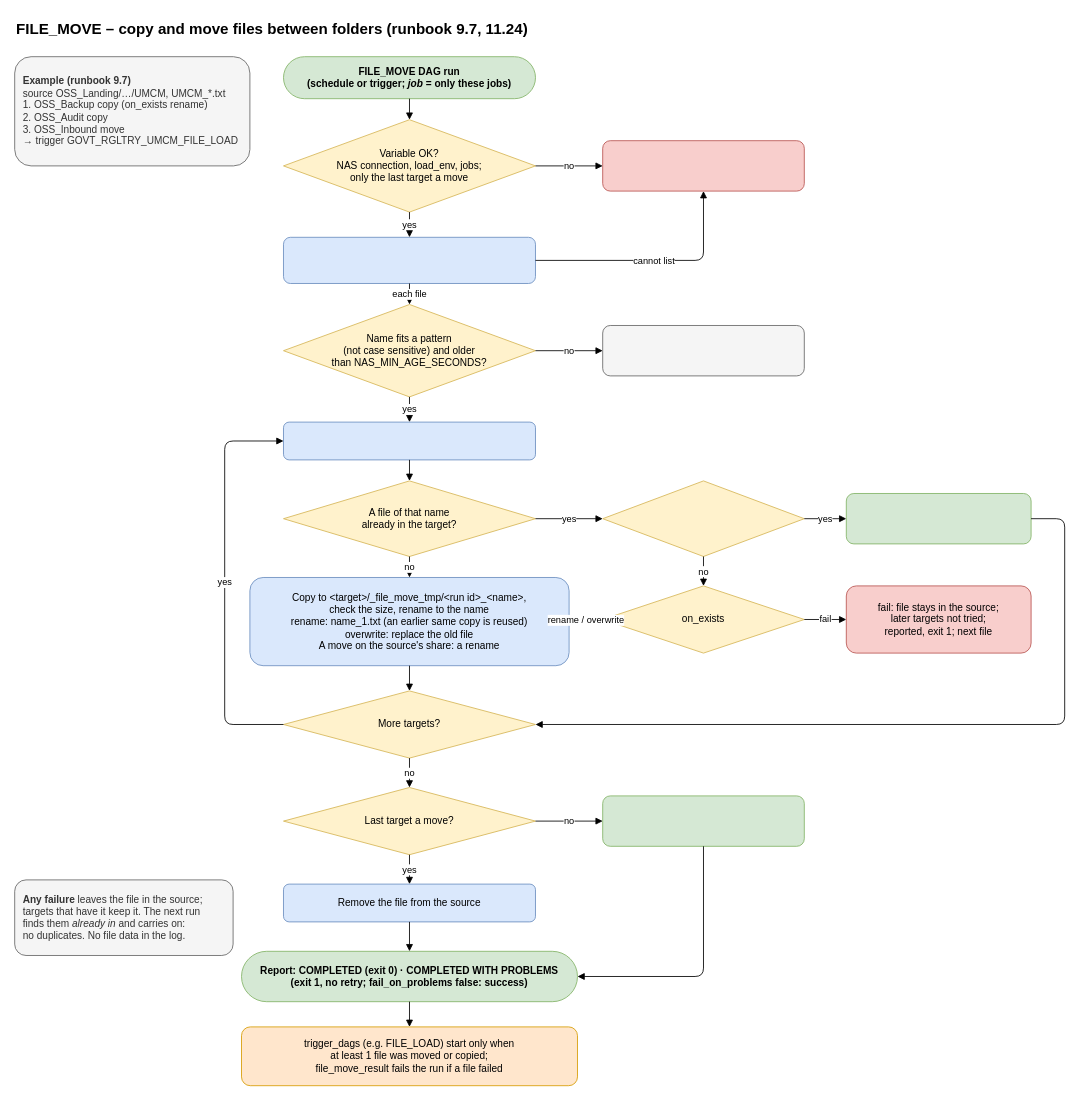
Image size: 1086x1100. Some labels were removed from this diagram. The shapes that lost their labels are listed below. From the top down, each one's centre as x and y in pixels, then its label:
At point 703,165: "COULD NOT RUN (exit 2) task retried, then fails".
At point 409,260: "Per job: list the source folder (files directly in it, not subfolders)".
At point 703,350: "Not taken: stays in the source (still arriving: next run)".
At point 409,440: "Next target of the file, in order".
At point 703,518: "Same content? (size + SHA-256)".
At point 938,518: "already in … (same content) nothing written".
At point 703,820: "copied: file stays in the source".
